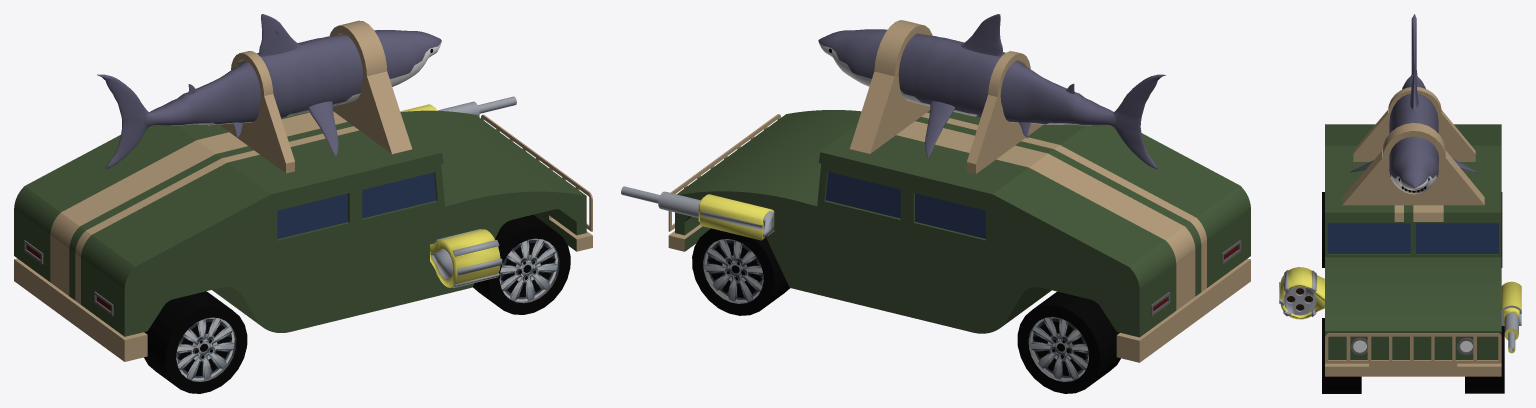
Rendered from Sharkunter.obj.
The picture shows the model from 3 angles, left to right: view 1: azimuth 30°, elevation 25°; view 2: azimuth 150°, elevation 25°; view 3: azimuth 270°, elevation 25°; orthographic projection. The views are drawn at different scales.
Parts seen in each view (by area): view 1: Mesh1 Group5 Group4 Group3 Group2 Group1 Model, Mesh5 Group9 Group8 Group7 Group1 Model, Mesh10 skp241C1 Model, Mesh12 skp241C2 Model, Mesh9 Group10 Group7 Group1 Model, Mesh2 Group6 Group4 Group3 Group2 Group1 Model, Mesh3 skp36EC1 Group3 Group2 Group1 Model, Mesh8 Group11 Group10 Group7 Group1 Model, Mesh4 skp9EB1_1 Group2 Group1 Model; view 2: Mesh1 Group5 Group4 Group3 Group2 Group1 Model, Mesh5 Group9 Group8 Group7 Group1 Model, Mesh14 skp241C3 Model, Mesh16 skp241C4 Model, Mesh9 Group10 Group7 Group1 Model, Mesh4 skp9EB1_1 Group2 Group1 Model, Mesh2 Group6 Group4 Group3 Group2 Group1 Model, Mesh8 Group11 Group10 Group7 Group1 Model; view 3: Mesh1 Group5 Group4 Group3 Group2 Group1 Model, Mesh9 Group10 Group7 Group1 Model, Mesh5 Group9 Group8 Group7 Group1 Model, Mesh8 Group11 Group10 Group7 Group1 Model, Mesh3 skp36EC1 Group3 Group2 Group1 Model, Mesh4 skp9EB1_1 Group2 Group1 Model, Mesh16 skp241C4 Model, Mesh12 skp241C2 Model, Mesh10 skp241C1 Model.
Part boxes in pixels (x1,y1,x2,y2): Mesh1 Group5 Group4 Group3 Group2 Group1 Model: [14, 110, 592, 336]; Mesh5 Group9 Group8 Group7 Group1 Model: [97, 14, 441, 168]; Mesh10 skp241C1 Model: [144, 291, 247, 393]; Mesh12 skp241C2 Model: [473, 215, 570, 314]; Mesh9 Group10 Group7 Group1 Model: [329, 20, 412, 154]; Mesh2 Group6 Group4 Group3 Group2 Group1 Model: [14, 258, 147, 361]; Mesh3 skp36EC1 Group3 Group2 Group1 Model: [430, 229, 502, 287]; Mesh8 Group11 Group10 Group7 Group1 Model: [219, 51, 294, 173]; Mesh4 skp9EB1_1 Group2 Group1 Model: [400, 96, 516, 116]; Mesh1 Group5 Group4 Group3 Group2 Group1 Model: [668, 110, 1250, 337]; Mesh5 Group9 Group8 Group7 Group1 Model: [818, 14, 1165, 169]; Mesh14 skp241C3 Model: [1017, 291, 1120, 393]; Mesh16 skp241C4 Model: [692, 228, 789, 315]; Mesh9 Group10 Group7 Group1 Model: [850, 20, 932, 153]; Mesh4 skp9EB1_1 Group2 Group1 Model: [621, 186, 774, 240]; Mesh2 Group6 Group4 Group3 Group2 Group1 Model: [1116, 258, 1250, 362]; Mesh8 Group11 Group10 Group7 Group1 Model: [966, 51, 1042, 173]; Mesh1 Group5 Group4 Group3 Group2 Group1 Model: [1325, 124, 1501, 376]; Mesh9 Group10 Group7 Group1 Model: [1342, 123, 1484, 205]; Mesh5 Group9 Group8 Group7 Group1 Model: [1350, 14, 1476, 194]; Mesh8 Group11 Group10 Group7 Group1 Model: [1353, 87, 1475, 161]; Mesh3 skp36EC1 Group3 Group2 Group1 Model: [1279, 267, 1324, 319]; Mesh4 skp9EB1_1 Group2 Group1 Model: [1501, 281, 1521, 353]; Mesh16 skp241C4 Model: [1465, 326, 1504, 393]; Mesh12 skp241C2 Model: [1322, 318, 1361, 393]; Mesh10 skp241C1 Model: [1322, 192, 1324, 267].
Bounding box in the file's own units: 4.01 × 2.32 × 2.07.
